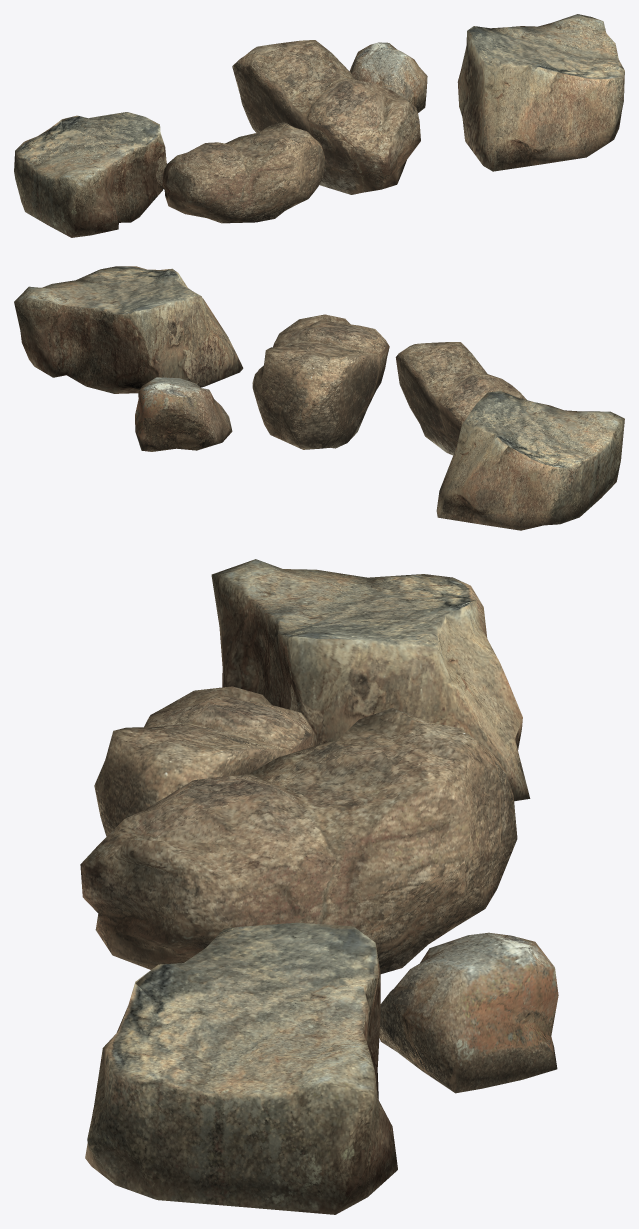
The model's file is mm6_deco_boulder06.glb.
The picture shows the model from 3 angles, top to bottom: view 1: azimuth 30°, elevation 25°; view 2: azimuth 150°, elevation 25°; view 3: azimuth 270°, elevation 25°; orthographic projection. The views are drawn at different scales.
Visible parts, largest first — view 1: Boulder06; view 2: Boulder06; view 3: Boulder06.
Part boxes in pixels (<box>): Boulder06: <box>14,14,624,237</box>; Boulder06: <box>14,266,624,530</box>; Boulder06: <box>80,559,558,1214</box>.
Bounding box in the file's own units: 1.08 × 0.1935 × 0.3972.
Materials: 1 (1 with a texture image).
